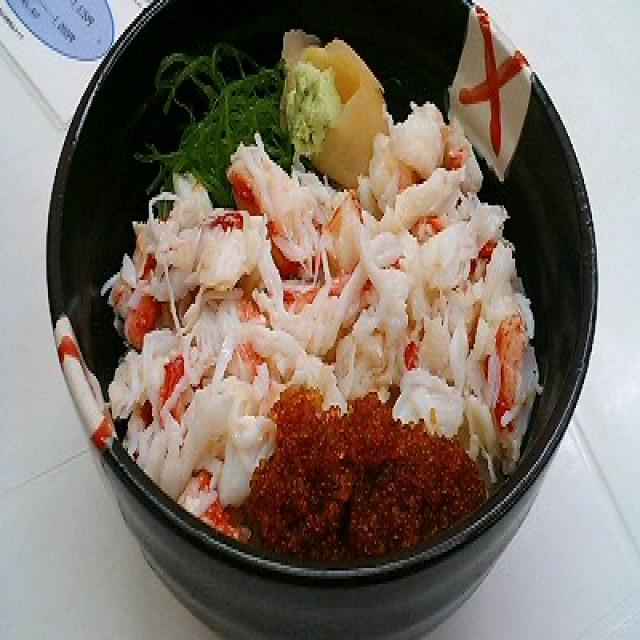刺身生食: (34, 0, 600, 640)
